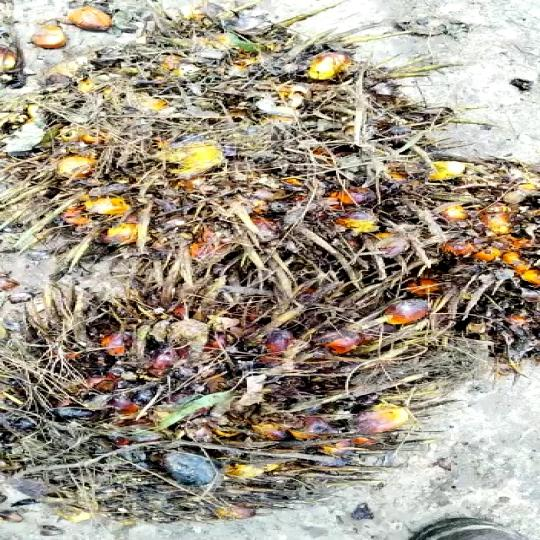terlalu masak: (0, 254, 445, 524), (0, 26, 447, 265)
